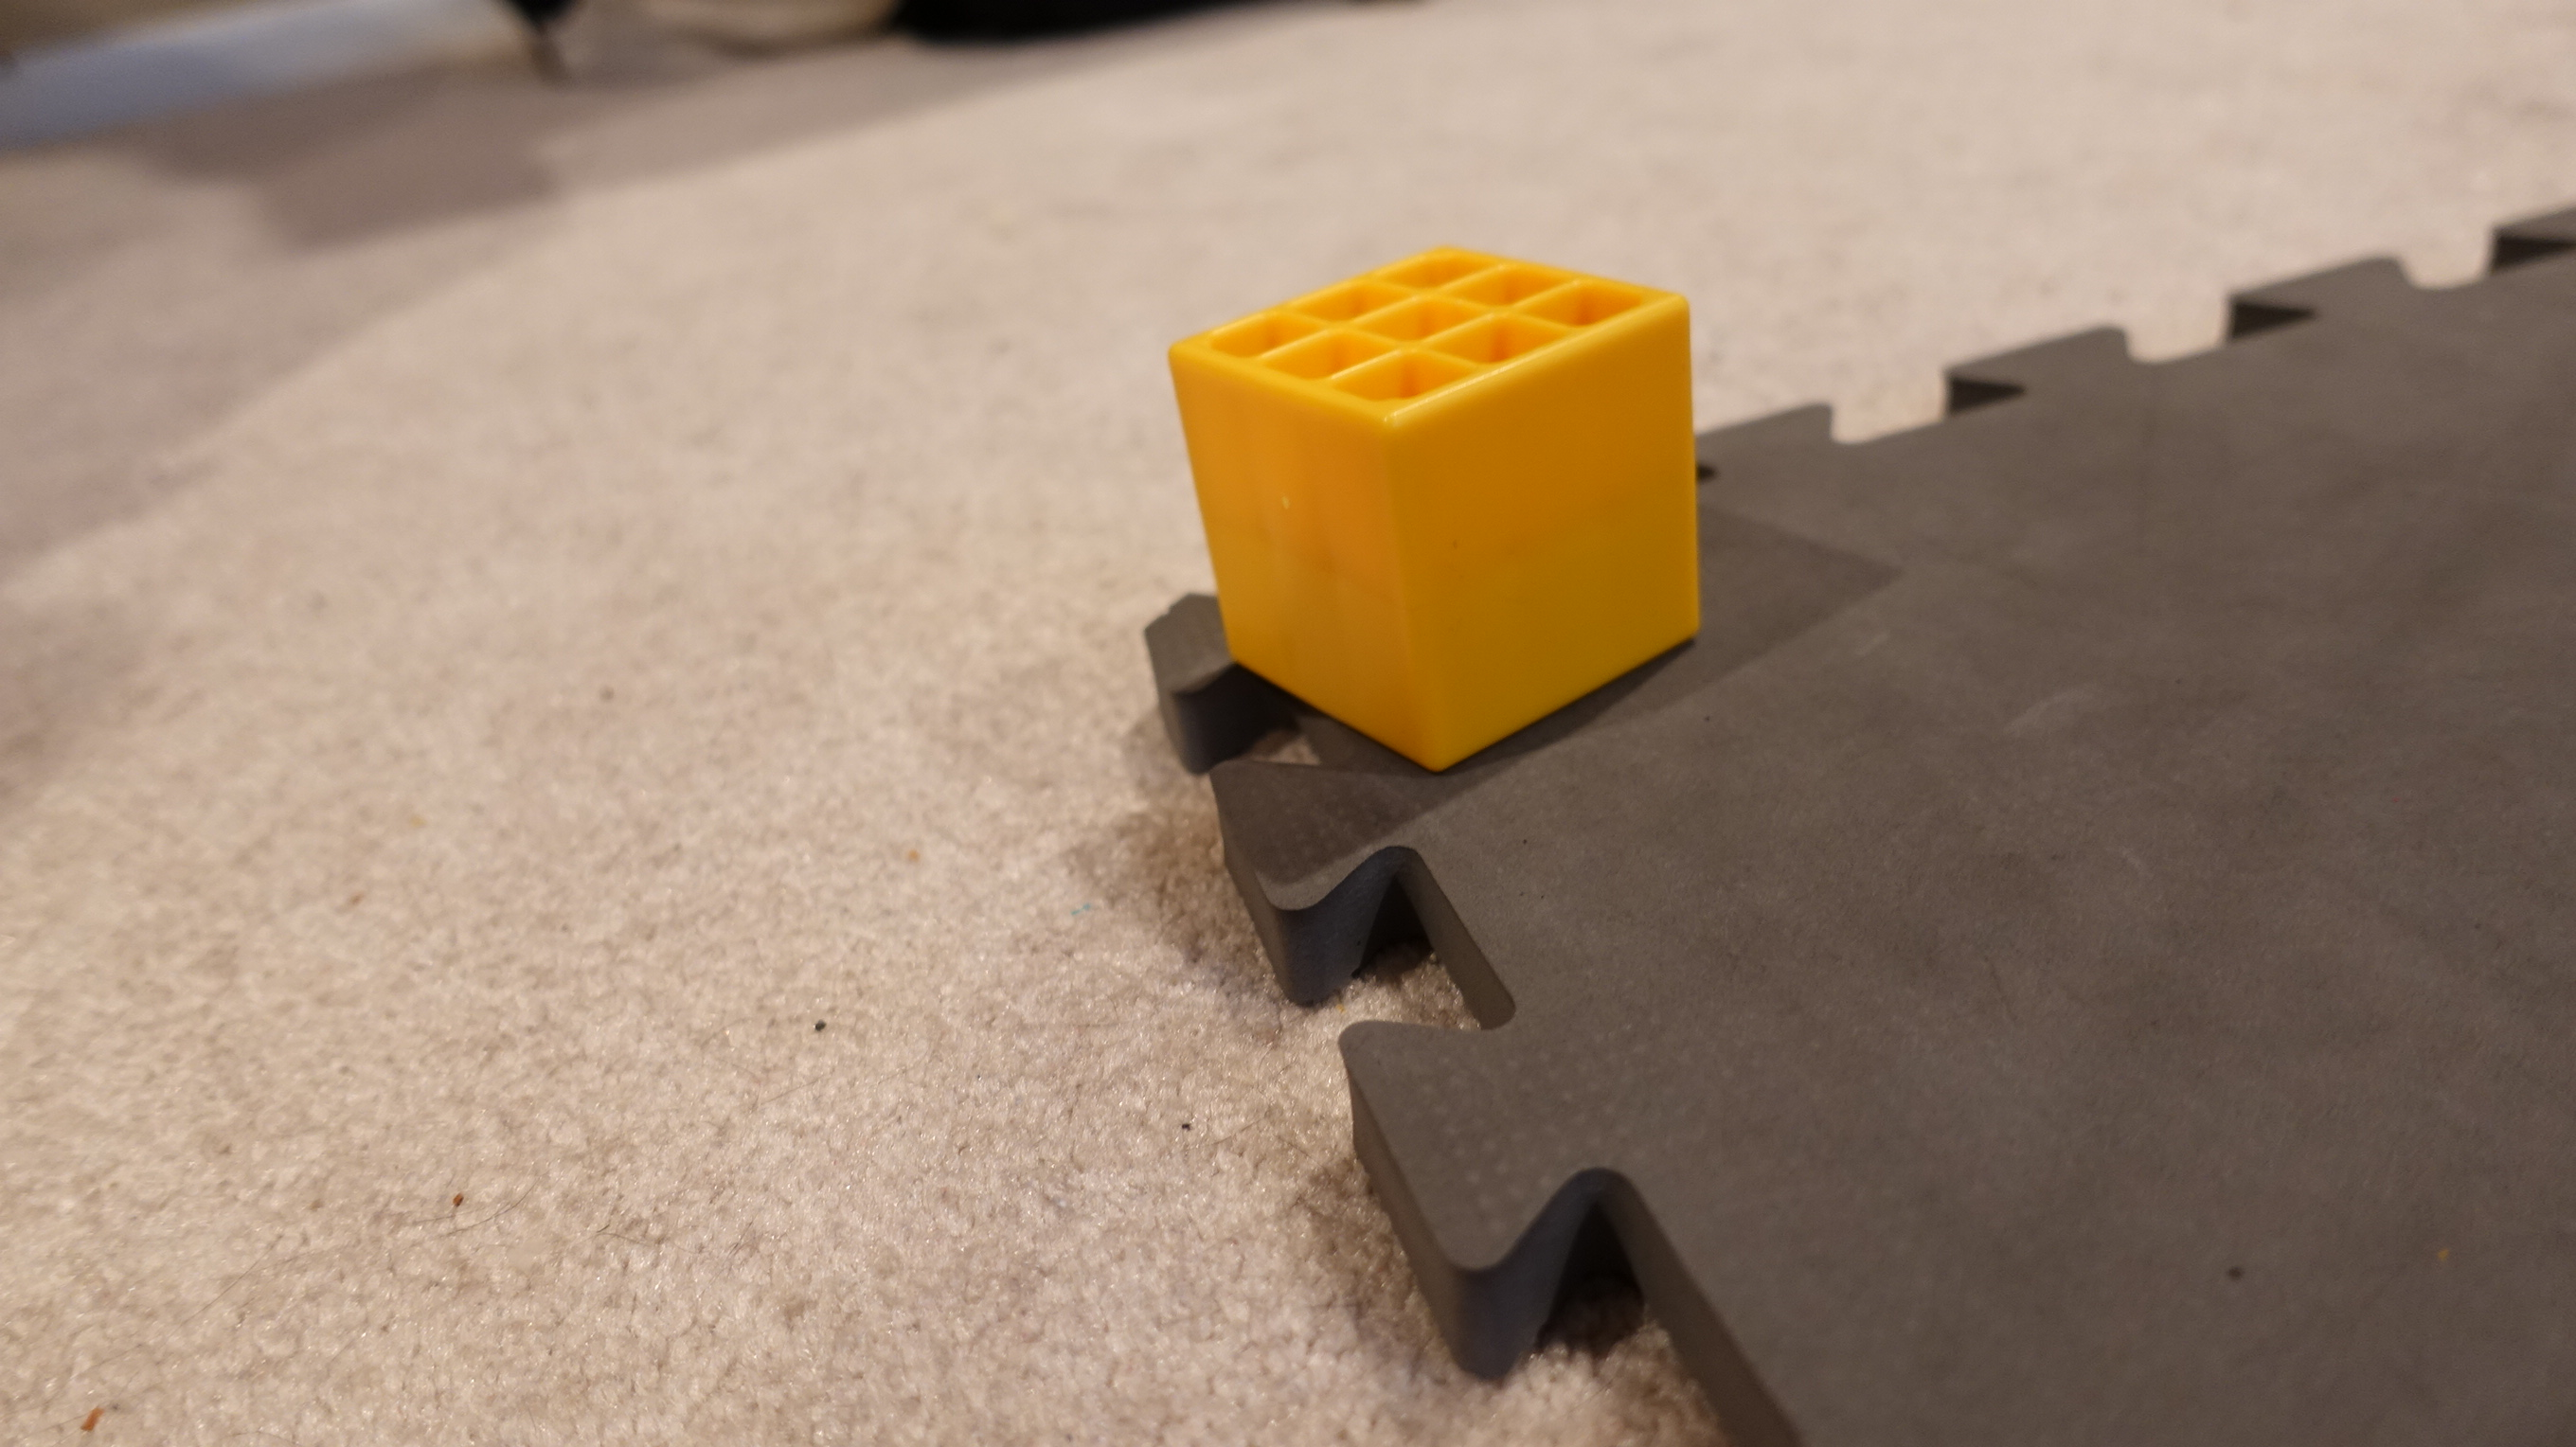gold: (1166, 239, 1706, 778)
